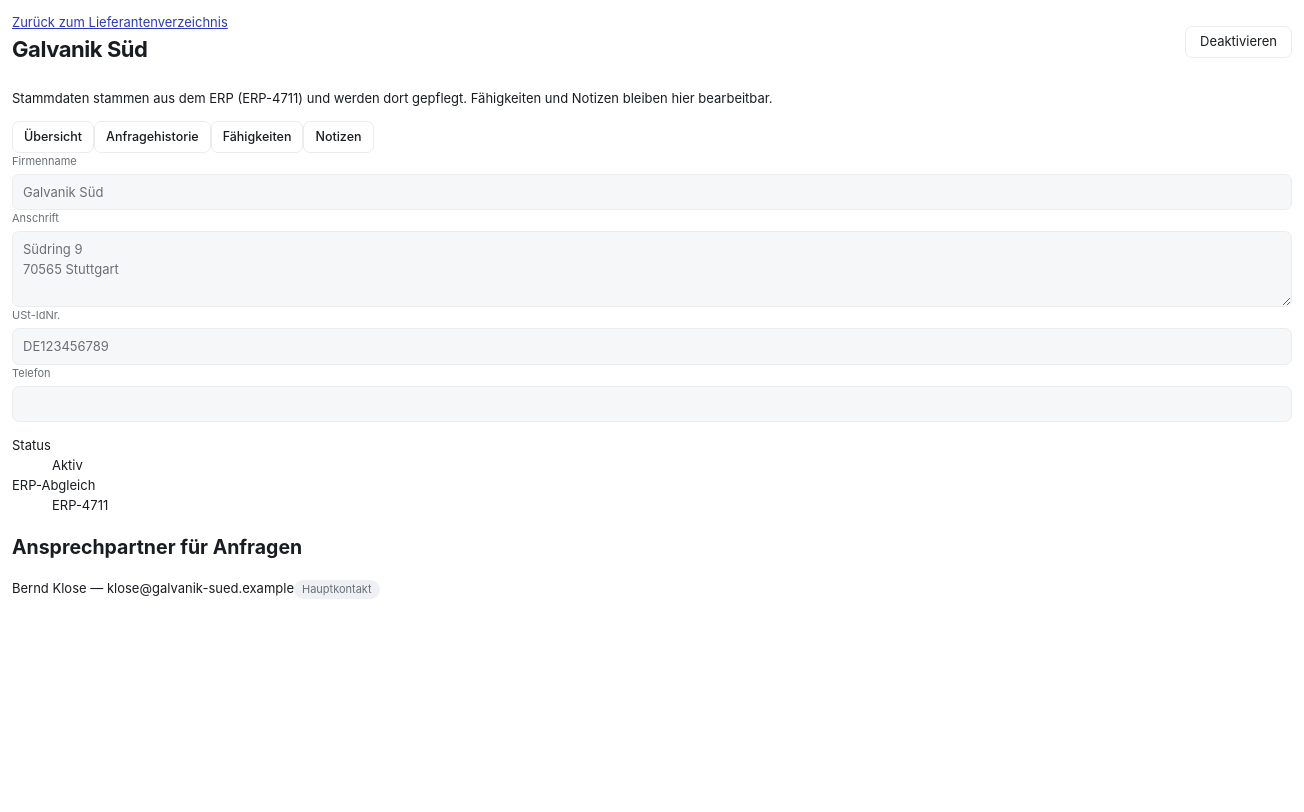
Test case: VendorDetailPage › locks an ERP vendor’s identity fields but keeps capabilities editable
This screenshot has width=1304, height=812.
expect the field showing "Galvanik Süd" is disabled: met, box top-left (12, 174), bottom-right (1292, 210)
expect the field showing "DE123456789" is disabled: met, box top-left (12, 328), bottom-right (1292, 365)
# BF-only data never writes back to the ERP, so it stays editable.
Click the tab "Fähigkeiten" at (257, 137), box top-left (211, 121), bottom-right (303, 153)
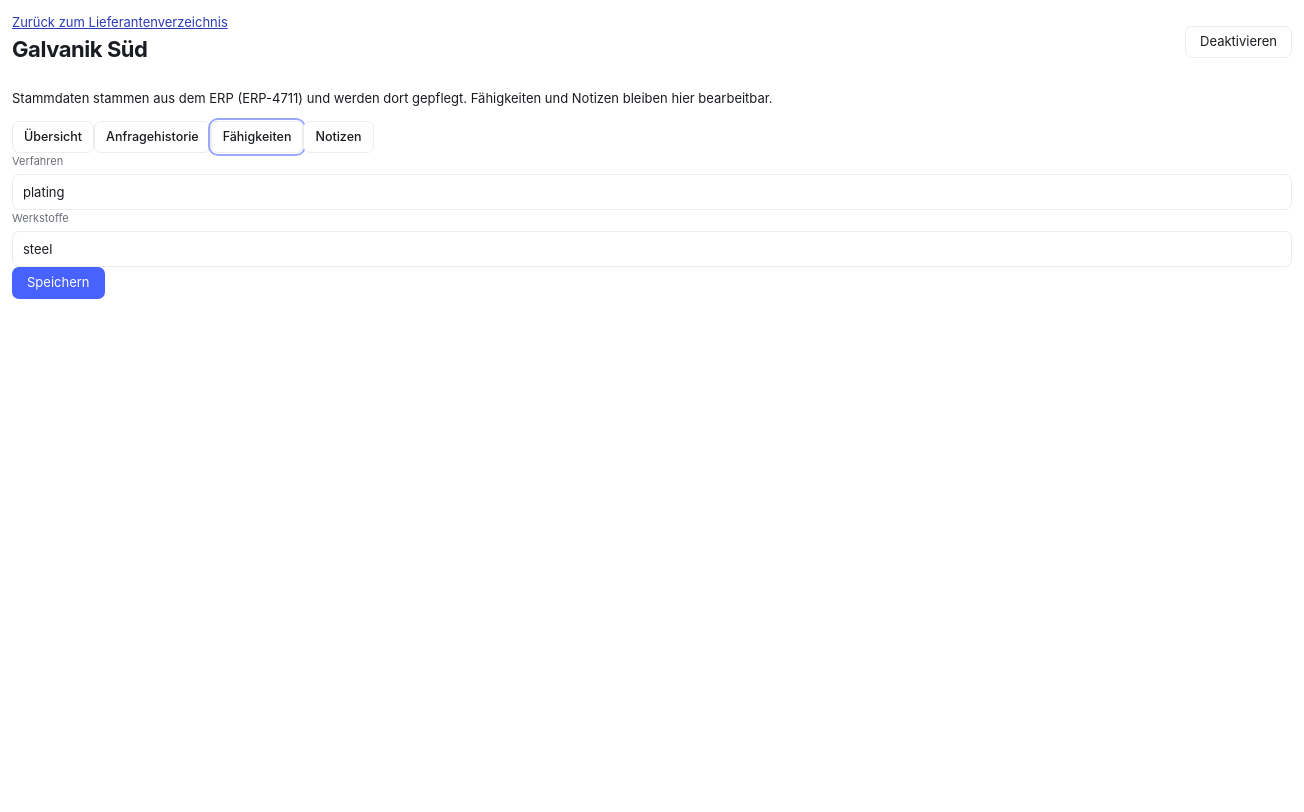
expect the field showing "plating" is enabled: met, box top-left (12, 174), bottom-right (1292, 210)
expect the button "Speichern" is shown: met, box top-left (12, 267), bottom-right (104, 299)
